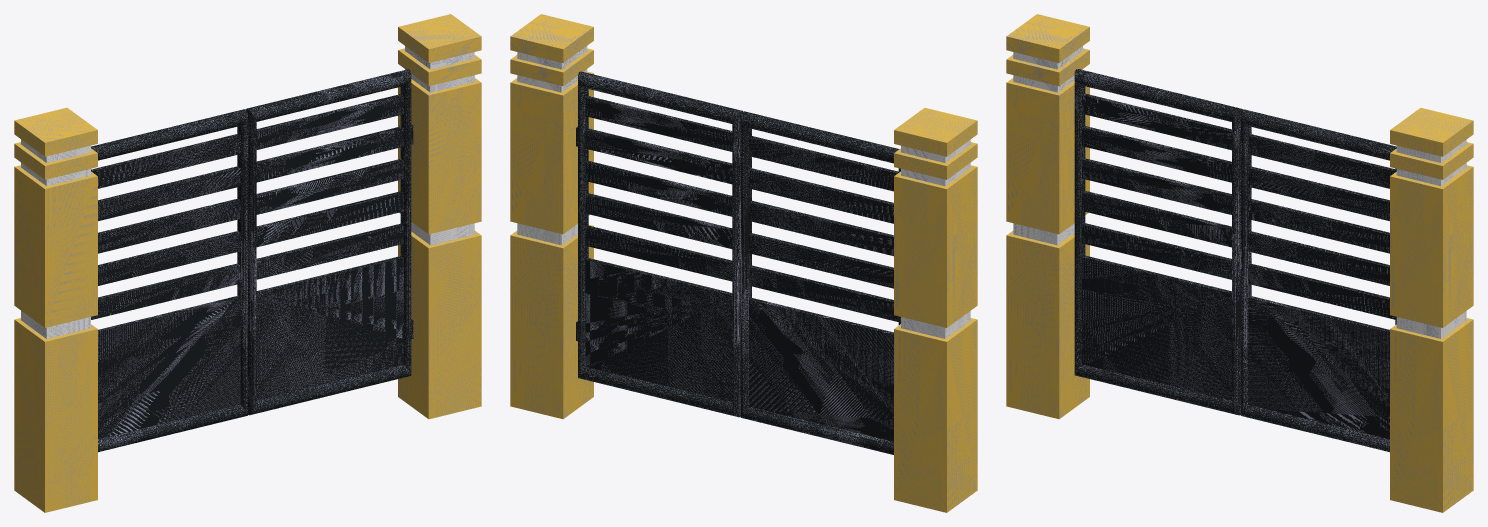
3 views of the same model, side by side, from view 1: azimuth 30°, elevation 25°; view 2: azimuth 150°, elevation 25°; view 3: azimuth 330°, elevation 25° (orthographic).
Visible parts, largest first — view 1: SketchUp (×14); view 2: SketchUp (×14); view 3: SketchUp (×14).
Boxes of the visible parts, x1,y1,x2,y2 form: SketchUp (×14): (14, 14, 481, 512); SketchUp (×14): (510, 14, 977, 512); SketchUp (×14): (1006, 14, 1473, 512).
Size of the model in its own units: 98.7 by 12.02 by 79.96.
